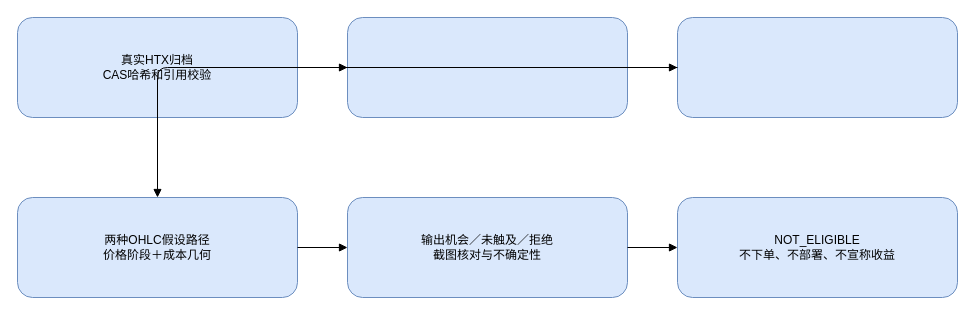
Image size: 975x315. Some labels were removed from this diagram. The centre of each missing label's shape, as x and y in pixels:
"复用现有结构规则 六组参数，不选参" goes at point 817,67.
"按可见时间释放闭合K线 等待完整窗口和配置" goes at point 487,67.
